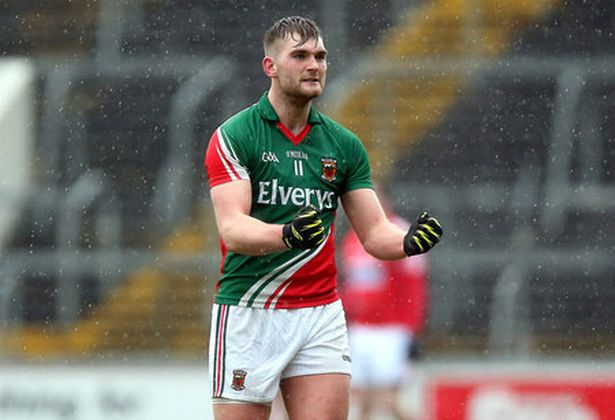player: (212, 5, 371, 390)
